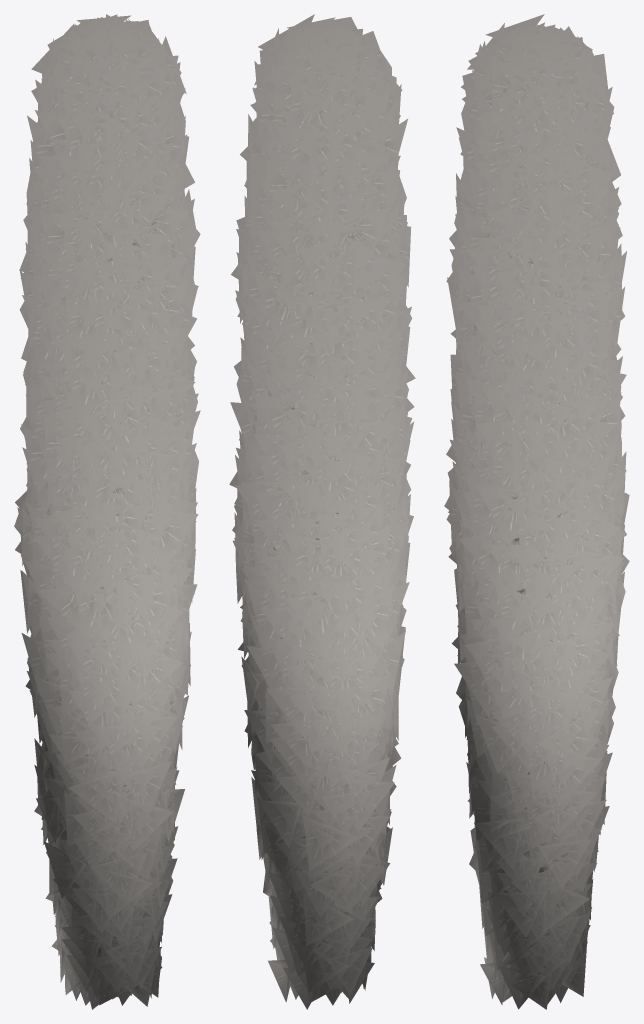
Rendered from Planet_Saguaro02.fbx.
3 renders of one model, left to right at view 1: azimuth 30°, elevation 25°; view 2: azimuth 150°, elevation 25°; view 3: azimuth 270°, elevation 25°, orthographic.
Parts seen in each view (by area): view 1: Planet_Saguaro02; view 2: Planet_Saguaro02; view 3: Planet_Saguaro02.
Boxes of the visible parts, box(x1,y1,x2,y2) form: Planet_Saguaro02: box(14, 14, 200, 1009); Planet_Saguaro02: box(229, 14, 415, 1009); Planet_Saguaro02: box(444, 14, 629, 1009).
Bounding box in the file's own units: 0.1736 × 1 × 0.1741.
